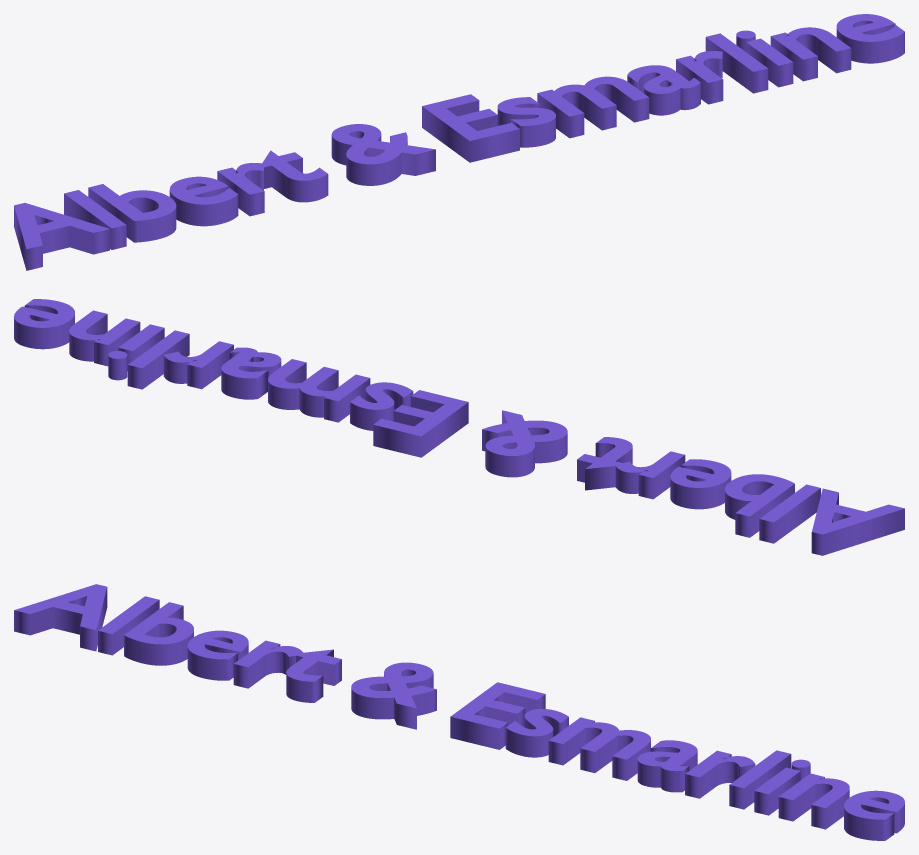
The picture shows the model from 3 angles, top to bottom: view 1: azimuth 30°, elevation 25°; view 2: azimuth 150°, elevation 25°; view 3: azimuth 330°, elevation 25°; orthographic projection.
Parts seen in each view (by area): view 1: Text; view 2: Text; view 3: Text.
Part boxes in pixels (<box>): Text: <box>14,14,904,270</box>; Text: <box>14,299,904,555</box>; Text: <box>14,584,904,840</box>.
Bounding box in the file's own units: 7.69 × 0.18 × 0.735.
